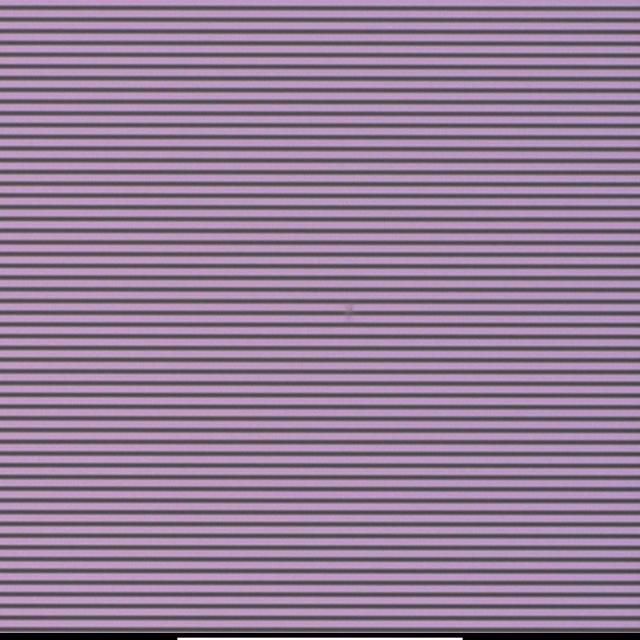nonvisual: (342, 304, 355, 320)
